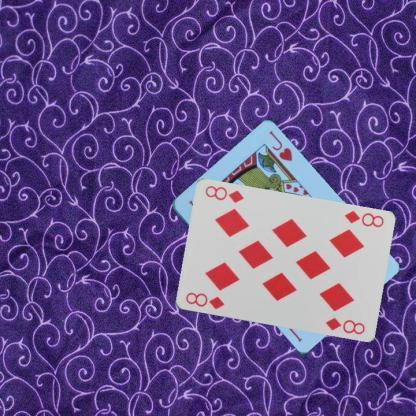8d: (182, 289, 226, 311), (341, 208, 385, 229)
